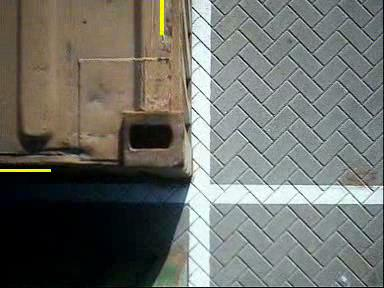groundmarker_2: (199, 231, 232, 284), (200, 59, 233, 111)
